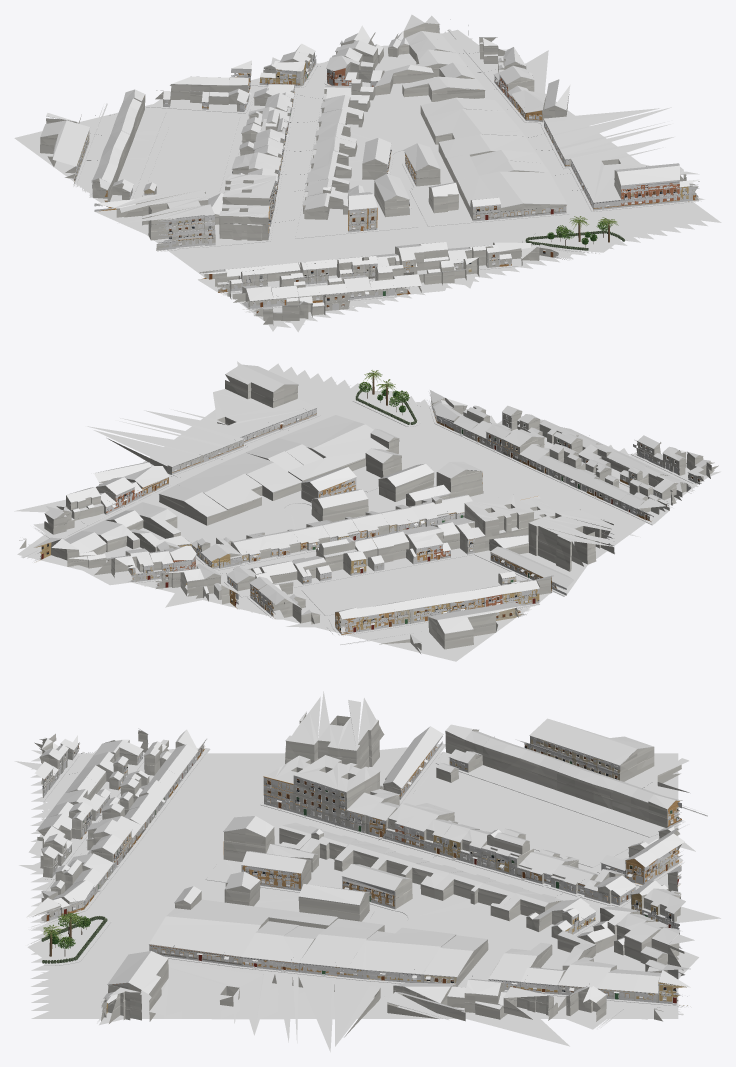
Rendered from zona_-1_1.glb.
3 renders of one model, top to bottom at view 1: azimuth 30°, elevation 25°; view 2: azimuth 150°, elevation 25°; view 3: azimuth 270°, elevation 25°, orthographic. The views are drawn at different scales.
Parts seen in each view (by area): view 1: z_calle_-1_1, z_tejados_-1_1, z_casas_-1_1, z_casas_planas_-1_1, z_fachadas_-1_1, z_suelo_-1_1, z_arboles_-1_1; view 2: z_tejados_-1_1, z_calle_-1_1, z_casas_-1_1, z_casas_planas_-1_1, z_fachadas_-1_1, z_suelo_-1_1, z_arboles_-1_1; view 3: z_calle_-1_1, z_tejados_-1_1, z_casas_-1_1, z_casas_planas_-1_1, z_fachadas_-1_1, z_suelo_-1_1, z_arboles_-1_1.
Part boxes in pixels (x1,y1,x2,y2): z_calle_-1_1: (14,29,721,332); z_tejados_-1_1: (40,14,699,313); z_casas_-1_1: (40,23,699,325); z_casas_planas_-1_1: (112,42,699,292); z_fachadas_-1_1: (73,26,699,316); z_suelo_-1_1: (76,31,654,316); z_arboles_-1_1: (525,216,624,250); z_tejados_-1_1: (23,364,711,643); z_calle_-1_1: (14,363,720,661); z_casas_-1_1: (19,375,718,653); z_casas_planas_-1_1: (63,361,669,588); z_fachadas_-1_1: (37,385,699,634); z_suelo_-1_1: (27,381,698,639); z_arboles_-1_1: (355,370,417,424); z_calle_-1_1: (14,743,720,1046); z_tejados_-1_1: (26,718,694,1019); z_casas_-1_1: (31,729,689,1023); z_casas_planas_-1_1: (101,691,679,1052); z_fachadas_-1_1: (33,714,686,1011); z_suelo_-1_1: (40,750,681,1019); z_arboles_-1_1: (41,912,107,963).
Size of the model in its own units: 250 by 13.04 by 223.
